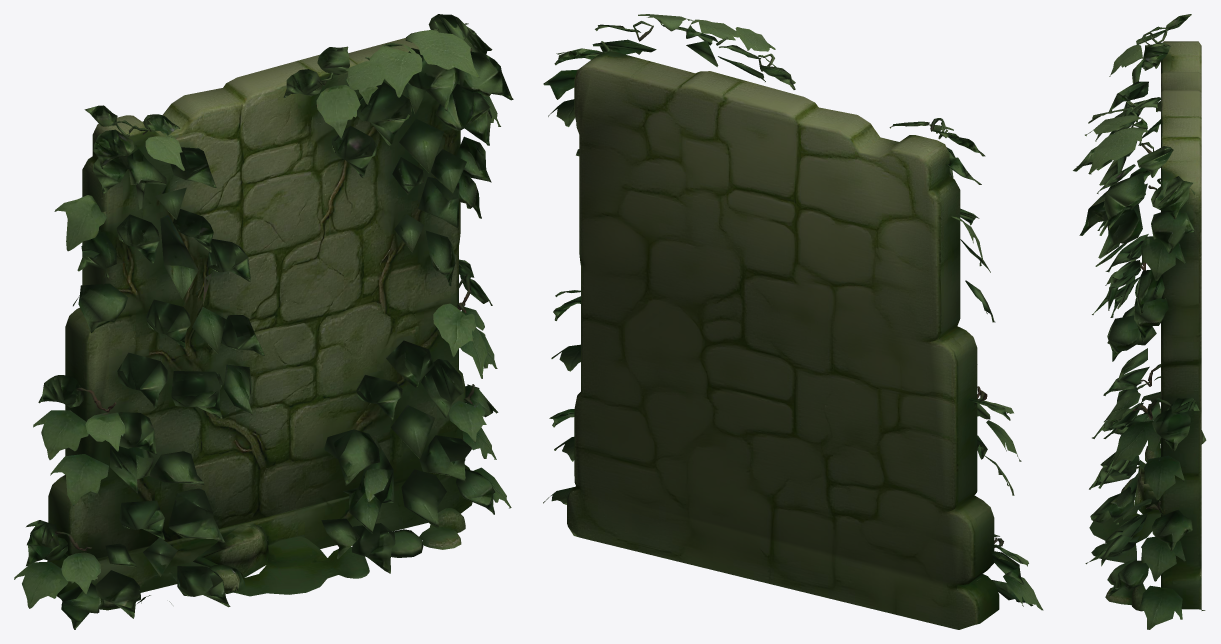
3 renders of one model, left to right at view 1: azimuth 30°, elevation 25°; view 2: azimuth 150°, elevation 25°; view 3: azimuth 270°, elevation 25°, orthographic. The views are drawn at different scales.
Parts seen in each view (by area): view 1: tripo_node_38809bcd-4315-480f-81b5-d3e83a7823b9; view 2: tripo_node_38809bcd-4315-480f-81b5-d3e83a7823b9; view 3: tripo_node_38809bcd-4315-480f-81b5-d3e83a7823b9.
Part boxes in pixels (left/top/right/bottom): tripo_node_38809bcd-4315-480f-81b5-d3e83a7823b9: left=14, top=14, right=513, bottom=629; tripo_node_38809bcd-4315-480f-81b5-d3e83a7823b9: left=543, top=14, right=1043, bottom=629; tripo_node_38809bcd-4315-480f-81b5-d3e83a7823b9: left=1073, top=14, right=1206, bottom=629.
Bounding box in the file's own units: 0.998 × 0.998 × 0.2637.
Materials: 1 (1 with a texture image).
